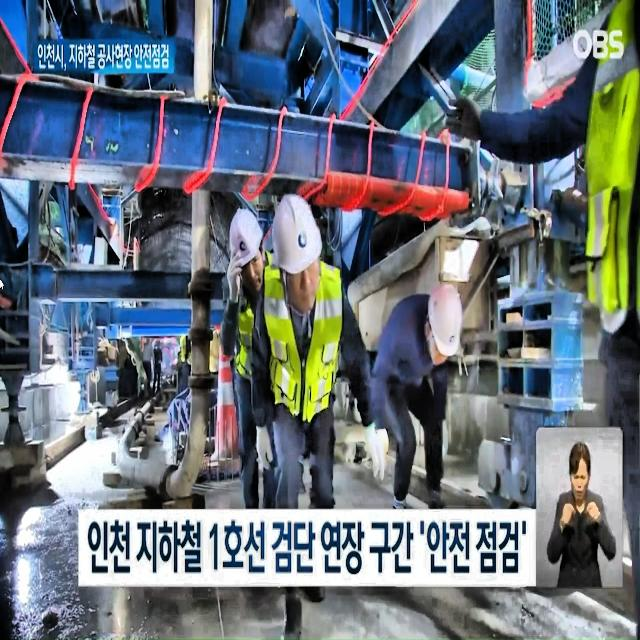safety_helmet: (407, 256, 469, 354), (272, 177, 328, 280), (222, 182, 266, 269)
safety_jacket: (565, 0, 636, 343), (257, 266, 352, 434), (218, 286, 276, 421)
